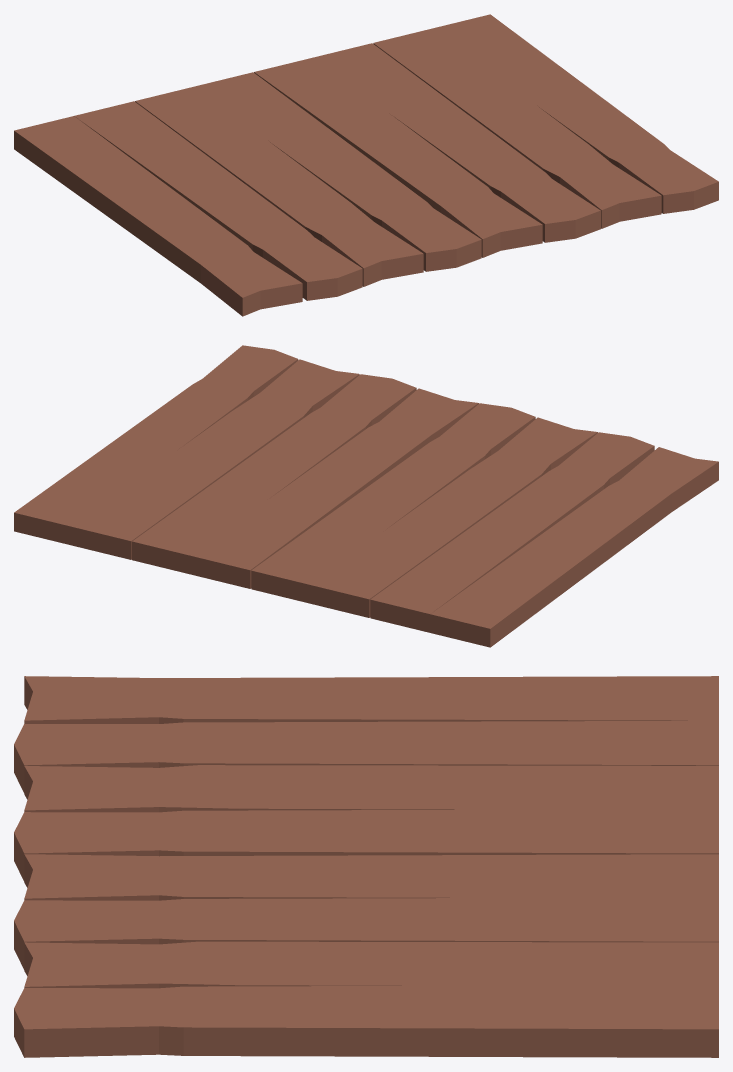
The model's file is woodFloorPiece.fbx.
3 renders of one model, top to bottom at view 1: azimuth 30°, elevation 25°; view 2: azimuth 150°, elevation 25°; view 3: azimuth 270°, elevation 25°, orthographic. The views are drawn at different scales.
Parts seen in each view (by area): view 1: Cube.010; view 2: Cube.010; view 3: Cube.010.
Part boxes in pixels (x1,y1,x2,y2): Cube.010: [14, 14, 718, 316]; Cube.010: [14, 345, 718, 647]; Cube.010: [14, 676, 718, 1057].
Bounding box in the file's own units: 925 × 34.81 × 781.
